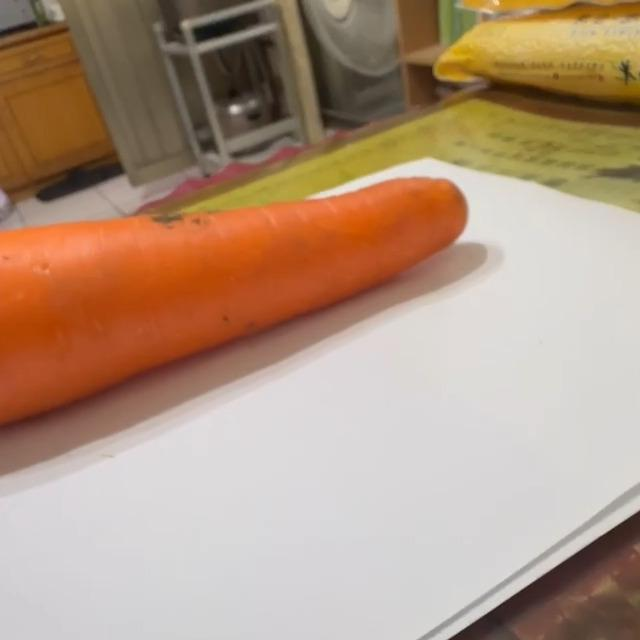carrot: (1, 174, 471, 435)
